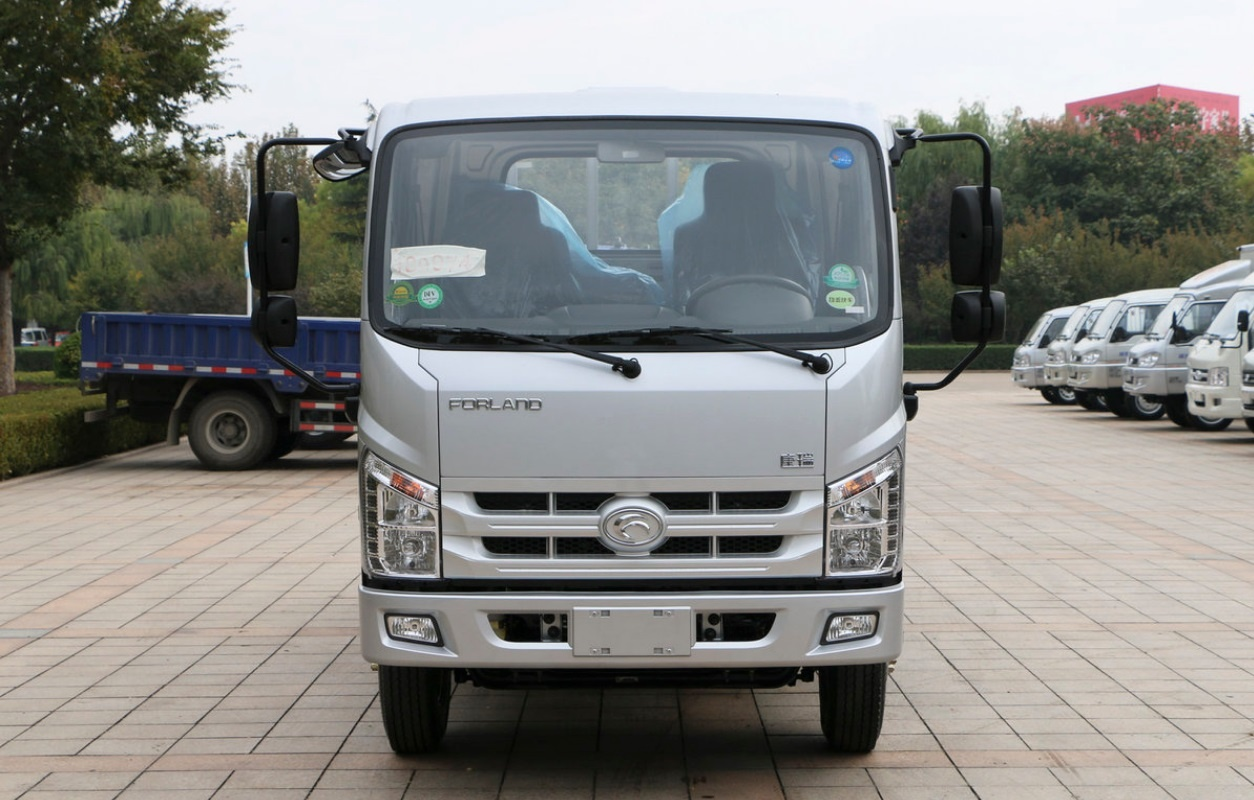truck: (250, 81, 957, 761)
